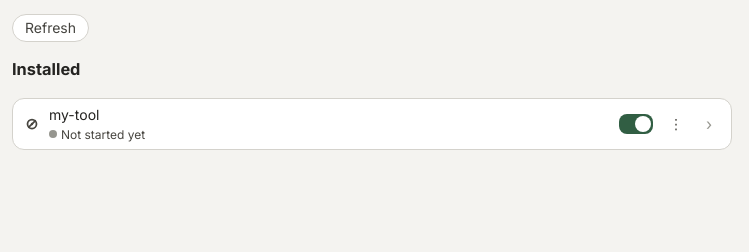
it: terminal login and the handoff note › says plainly that an unknown installed id has no documented login
Click the button "›": click(709, 124) x1=699 y1=114 x2=719 y2=134
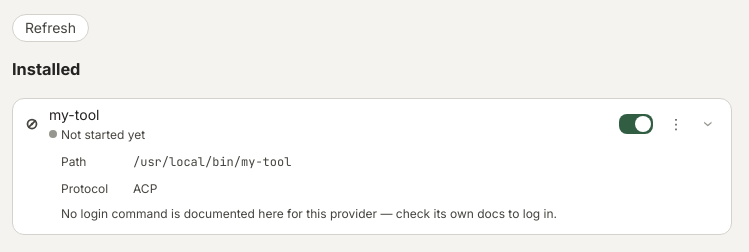
Result: the text "No login command" is shown at x1=61 y1=206 x2=557 y2=221
